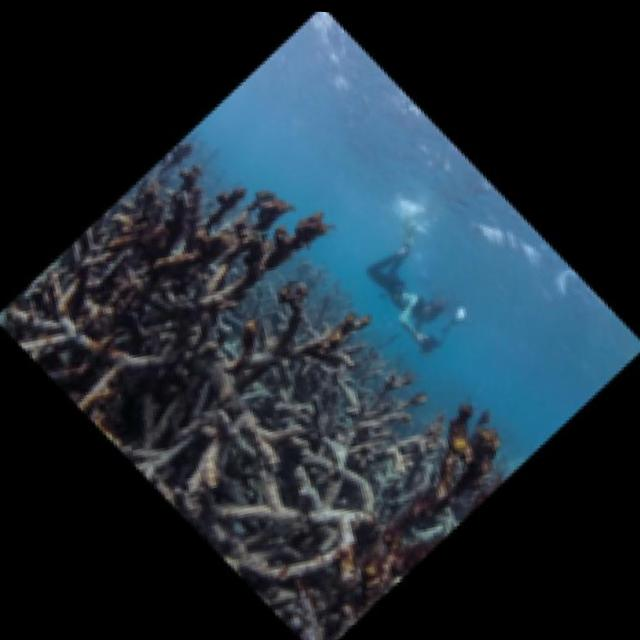Dead Coral: (0, 119, 401, 388), (238, 341, 521, 607), (116, 263, 398, 461)
